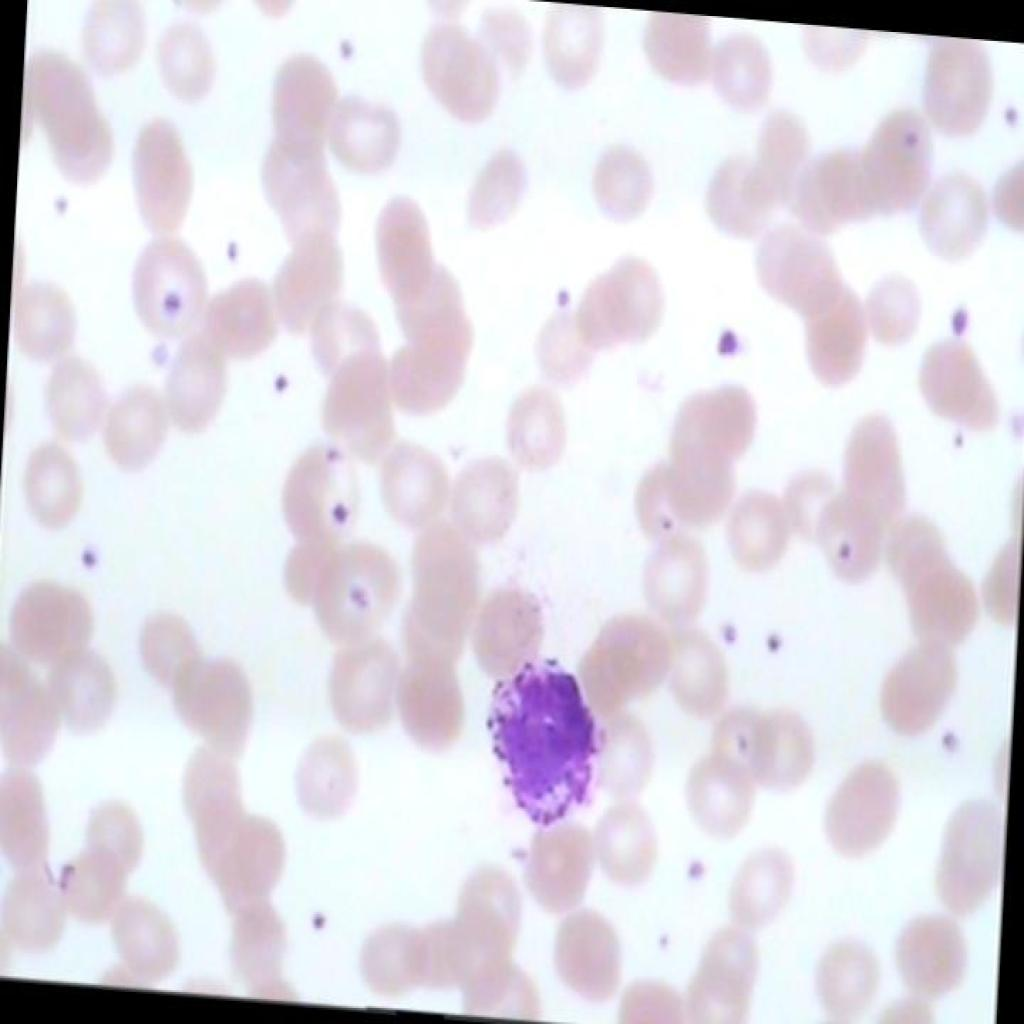Basofil: (478, 642, 610, 846)
Platelet: (705, 316, 758, 380), (918, 716, 968, 772), (204, 222, 248, 276), (303, 898, 346, 948), (68, 534, 102, 590), (933, 299, 973, 345), (268, 356, 304, 407), (643, 494, 677, 548), (756, 617, 796, 661), (826, 528, 859, 581), (890, 114, 929, 158), (992, 87, 1022, 141), (707, 608, 739, 656), (316, 432, 350, 476), (944, 414, 973, 462), (539, 278, 575, 316), (326, 485, 357, 528), (155, 286, 189, 324), (644, 912, 674, 955), (337, 30, 363, 70), (683, 848, 708, 882)
